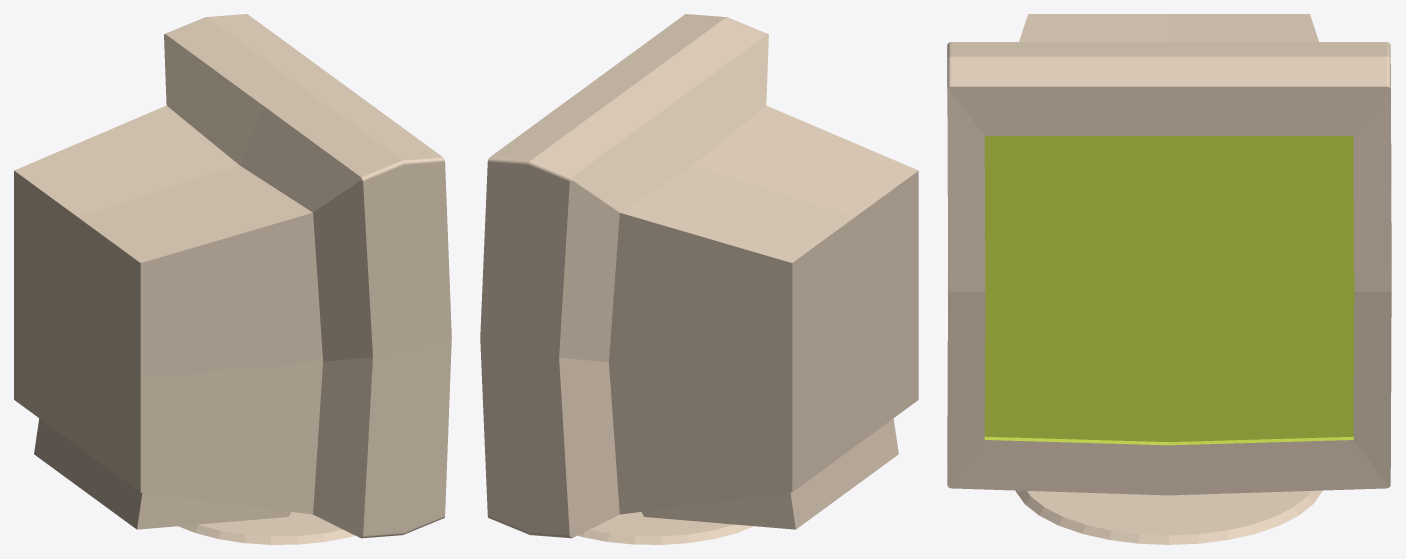
File: ComputerMonitor.fbx
3 views of the same model, side by side, from view 1: azimuth 30°, elevation 25°; view 2: azimuth 150°, elevation 25°; view 3: azimuth 270°, elevation 25° (orthographic). The views are drawn at different scales.
Visible parts, largest first — view 1: Cube; view 2: Cube; view 3: Cube.
Part boxes in pixels (left/top/right/bottom): Cube: left=14, top=14, right=451, bottom=544; Cube: left=480, top=14, right=918, bottom=544; Cube: left=947, top=14, right=1391, bottom=544.
Bounding box in the file's own units: 188 × 217 × 200.
